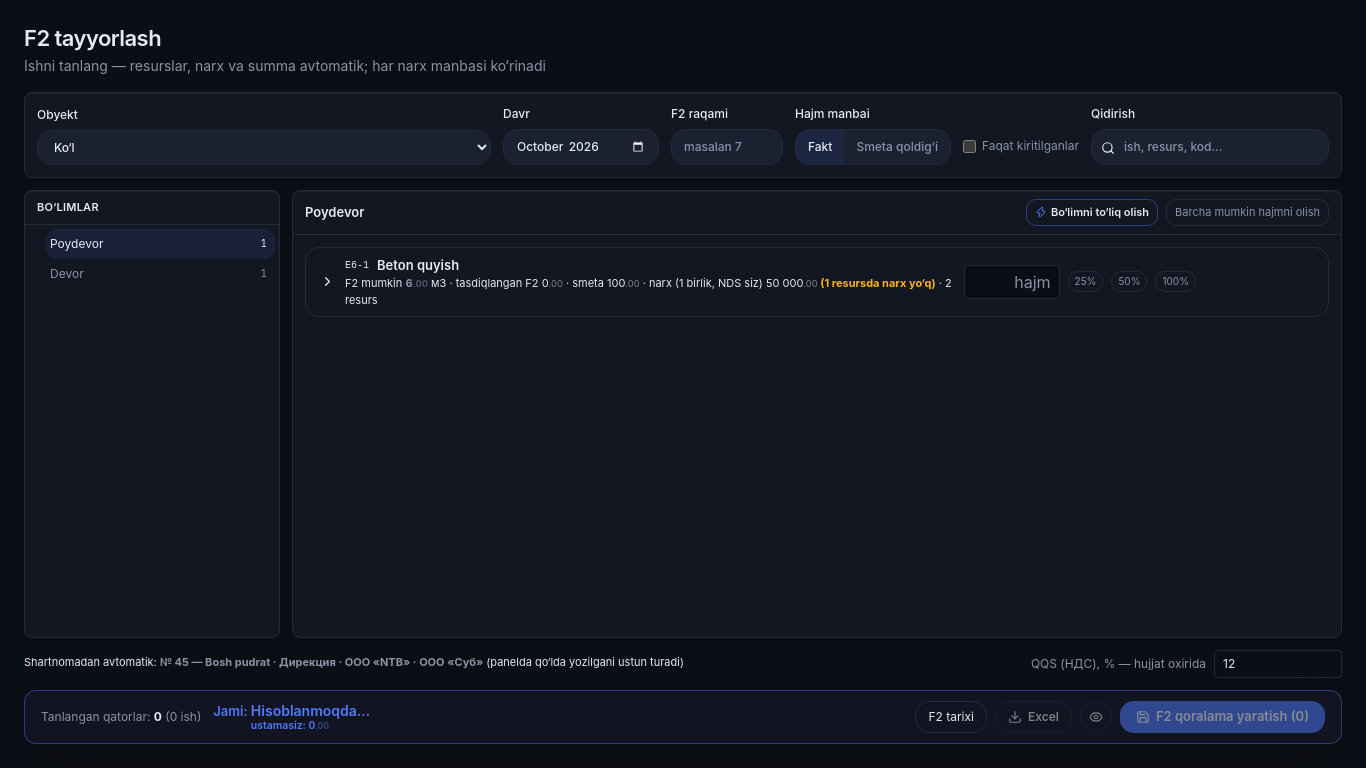
Scenario: F2 tayyorlash › fakt rejimida qoldiqdan oshgan hajm xato emas - faqat ogohlantirish (hajmni bloklama)
Step 1. Type "9" into the field named "F2 hajmi: Beton quyish" → (1012, 282), box [964,265,1060,299]
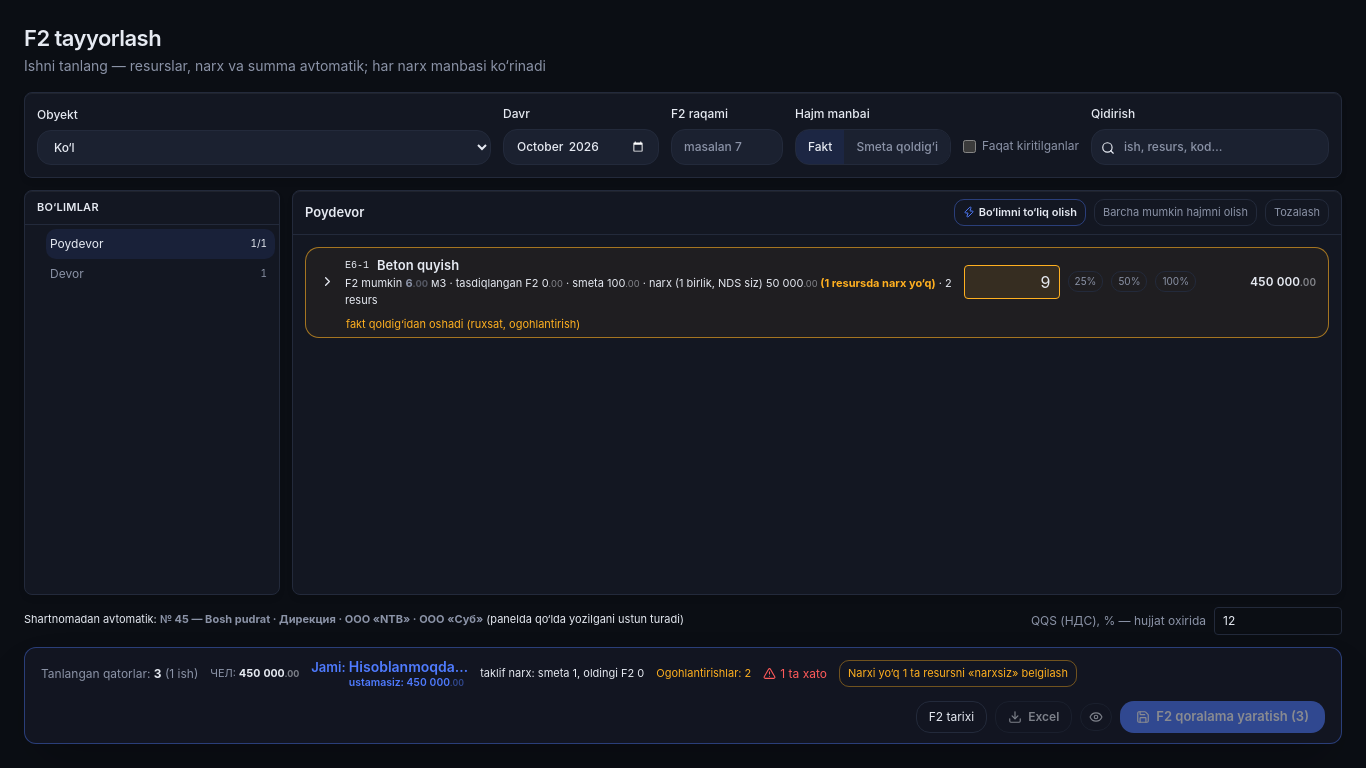
Now the text "fakt qoldig‘idan oshadi (ruxsat, ogohlantirish)" is shown, box [346,317,580,331]
